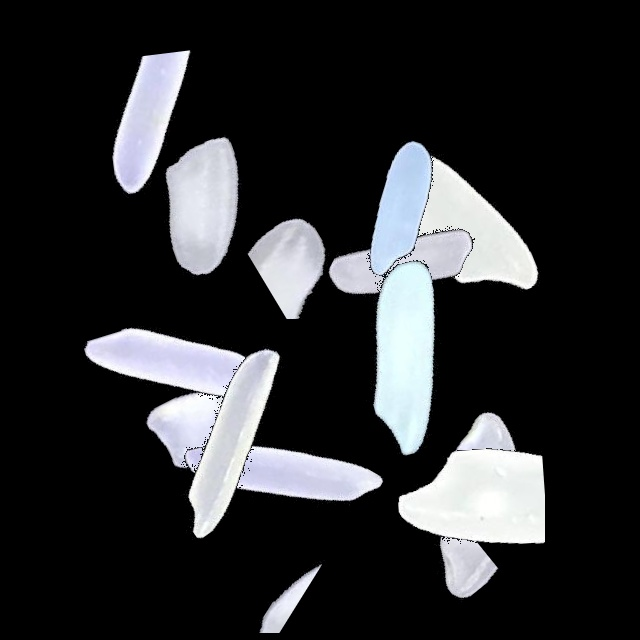Broken: (70, 17, 244, 267), (372, 373, 545, 623), (140, 338, 306, 588), (196, 196, 446, 319), (302, 514, 552, 630), (123, 525, 373, 633)
Full: (52, 240, 302, 490), (82, 83, 332, 333), (156, 345, 406, 595), (364, 345, 614, 595), (337, 100, 587, 350), (273, 134, 523, 384), (108, 317, 358, 567), (281, 235, 531, 485), (277, 83, 527, 333)
